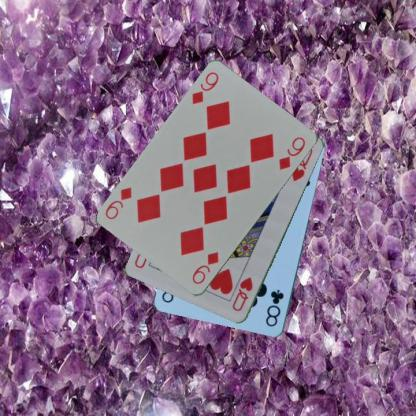8c: (263, 287, 285, 328)
9d: (190, 250, 221, 286), (189, 70, 220, 106)
Qh: (230, 275, 254, 313)
